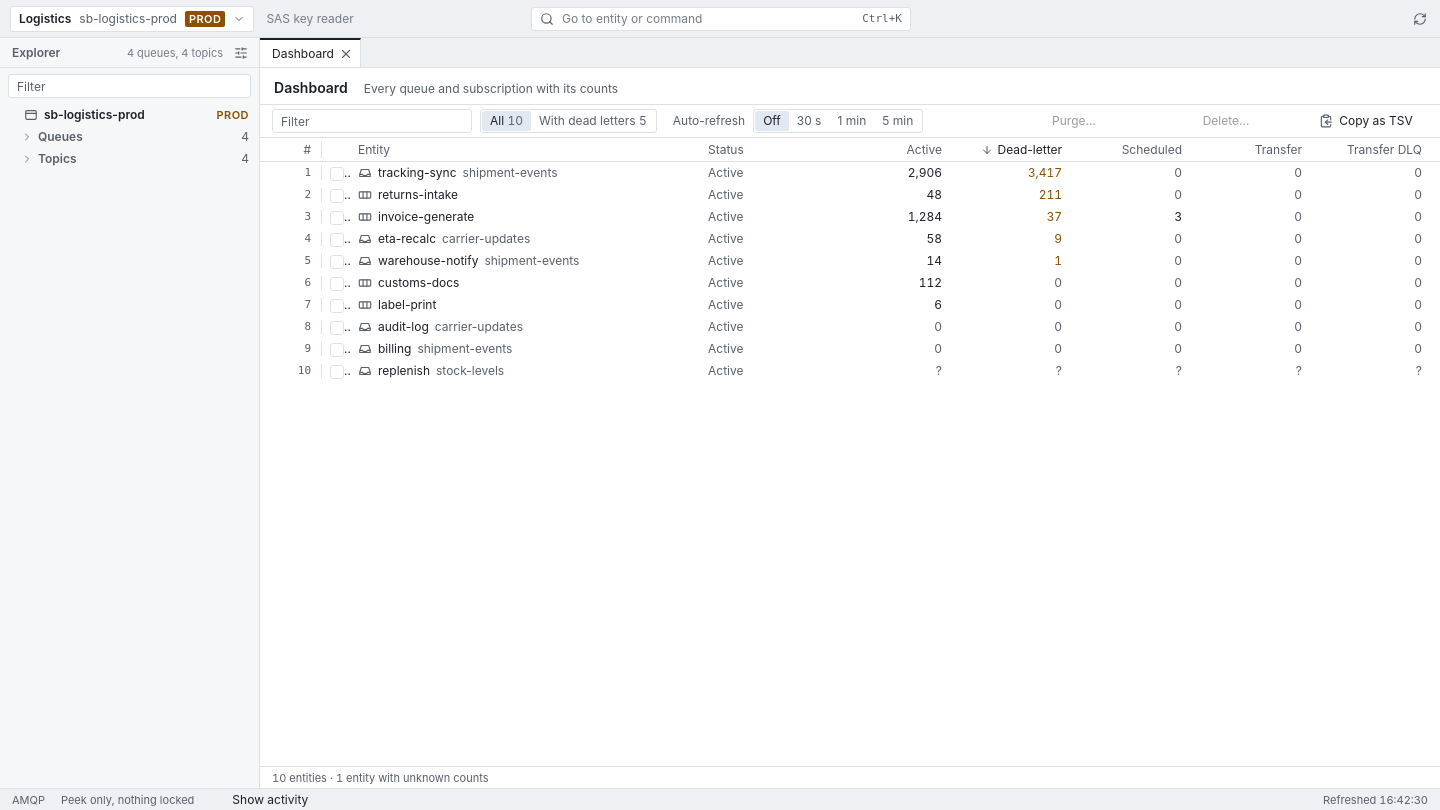
Scenario: dashboard › keeps only rows with dead letters when asked
Expected: the text "customs-docs" is shown, [378,275,459,291]
Expected: the radio button labelled "All 10" is checked, [482,111,531,131]
Step 1. Click the radio button labelled "With dead letters 5" → {"x": 593, "y": 121}, box [531,111,655,131]
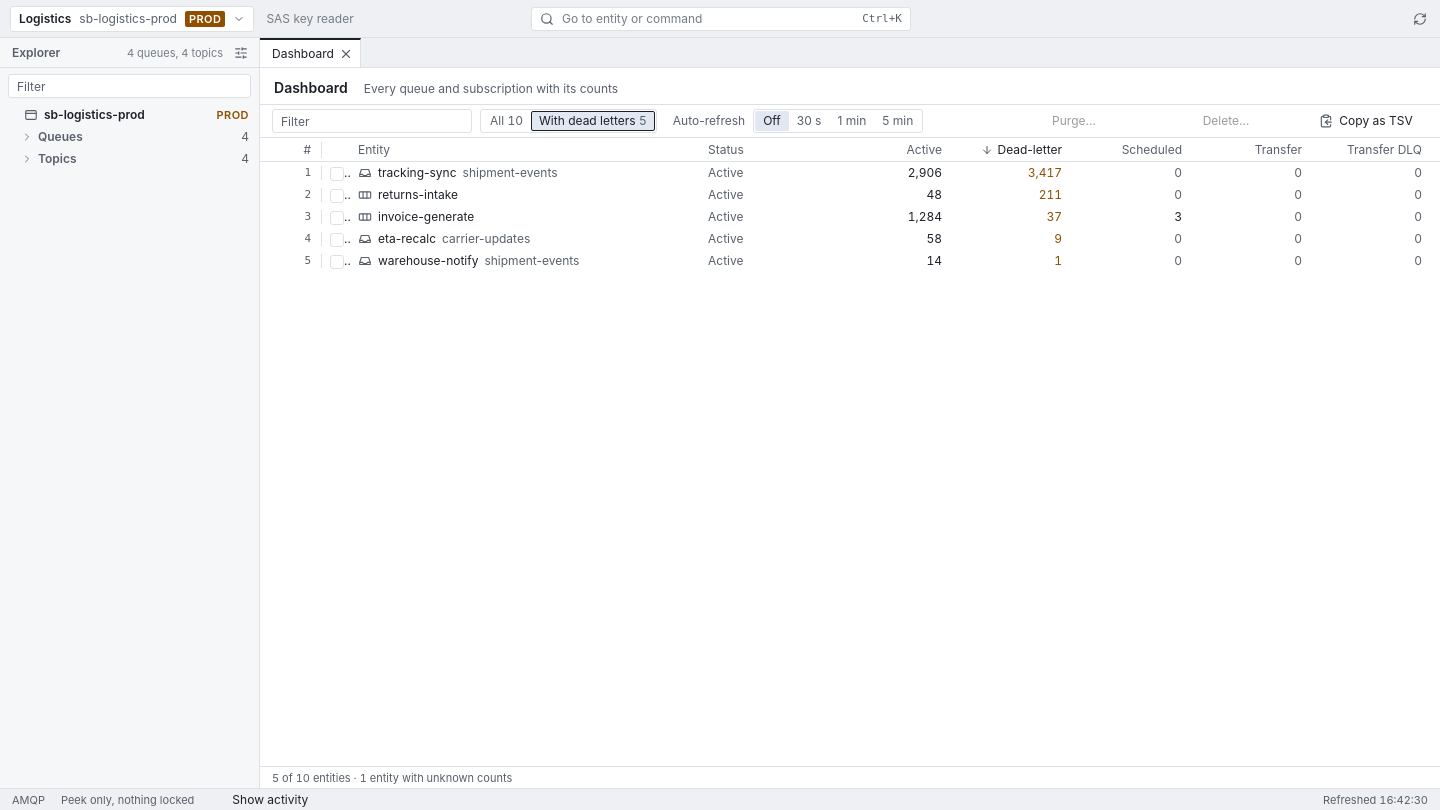
Expected: the text "invoice-generate" is shown, [378,209,474,225]
Now the radio button labelled "With dead letters 5" is checked, box [531,111,655,131]
Now the text "customs-docs" is gone
